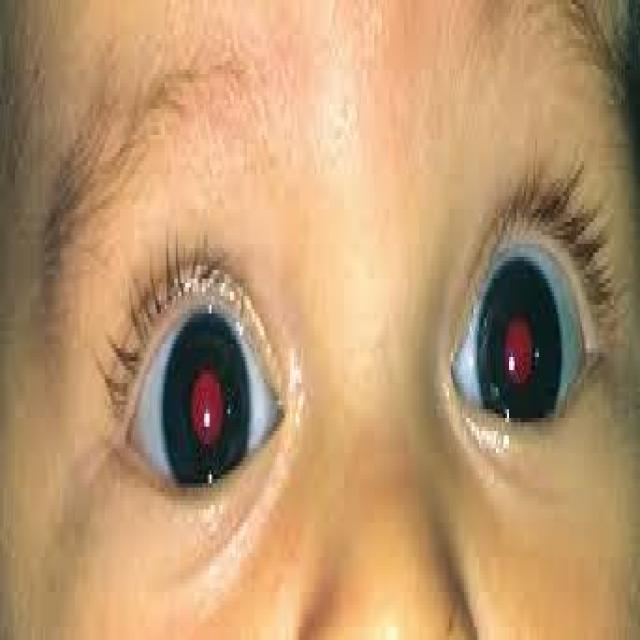reflexo-normal: (156, 316, 258, 502), (468, 264, 571, 438)
